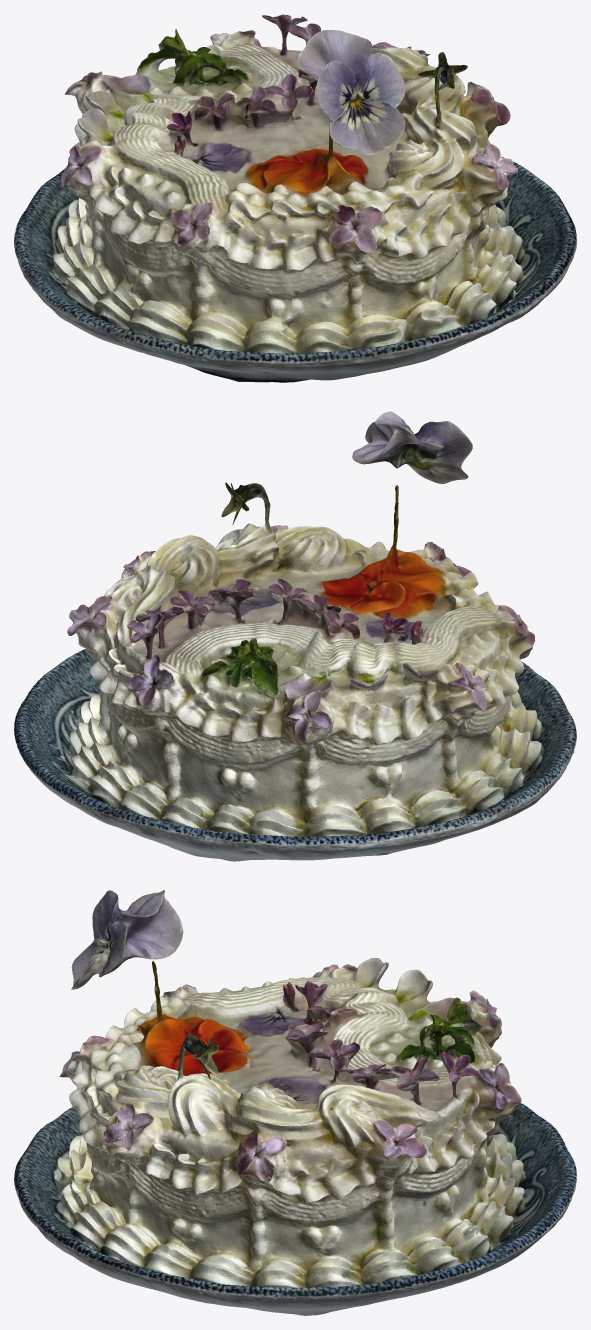
The model's file is cake.glb.
3 views of the same model, one above another, from view 1: azimuth 30°, elevation 25°; view 2: azimuth 150°, elevation 25°; view 3: azimuth 270°, elevation 25° (orthographic).
Bounding box in the file's own units: 0.9021 × 0.5957 × 0.8998.
1 material, 1 textured.
